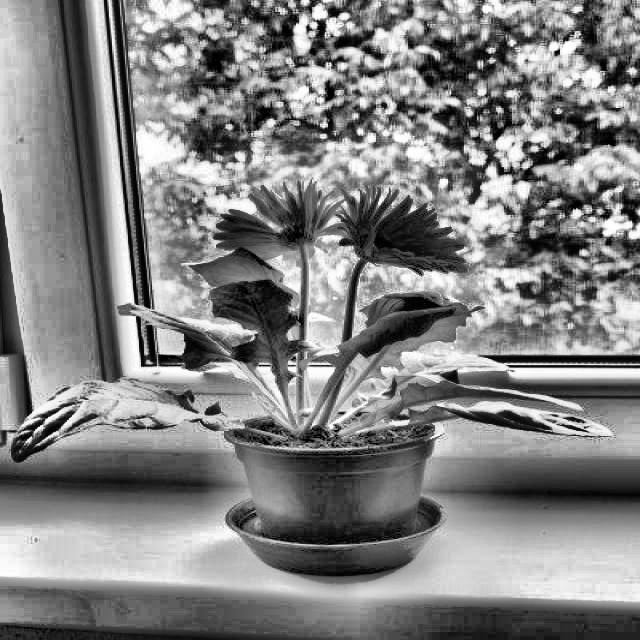plants: (5, 167, 613, 568)
